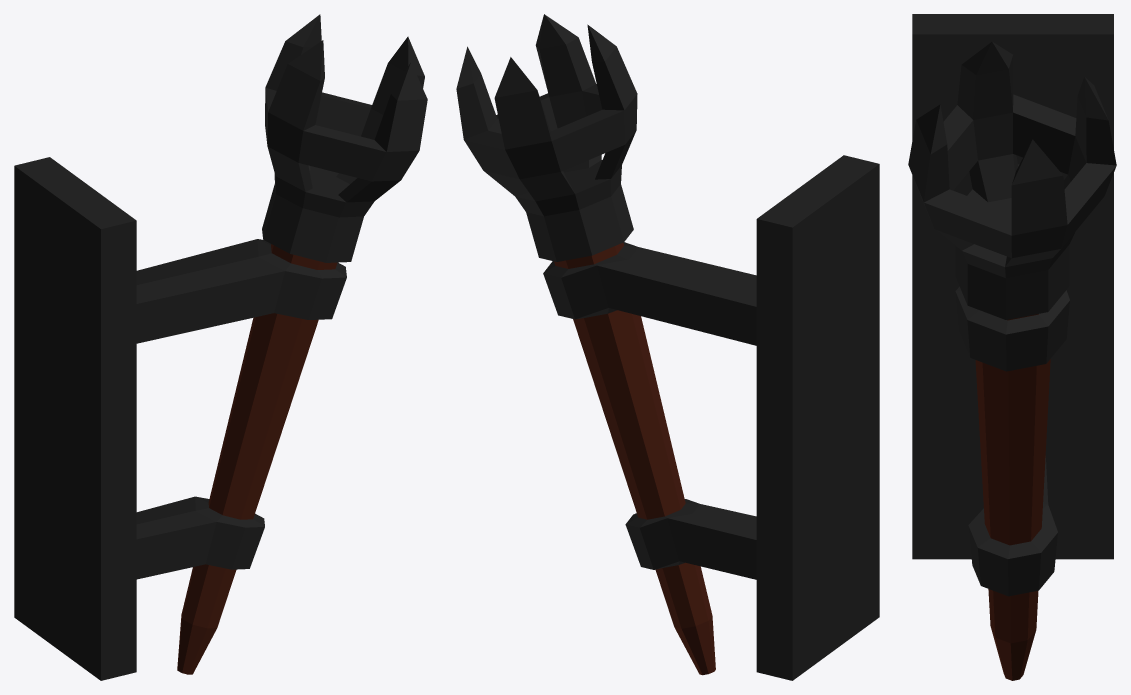
Rendered from torch_test.FBX.
3 views of the same model, side by side, from view 1: azimuth 30°, elevation 25°; view 2: azimuth 150°, elevation 25°; view 3: azimuth 270°, elevation 25° (orthographic). The views are drawn at different scales.
Visible parts, largest first — view 1: Torch; view 2: Torch; view 3: Torch.
Part boxes in pixels (x1=…): Torch: x1=14, y1=14, x2=427, y2=680; Torch: x1=456, y1=14, x2=879, y2=680; Torch: x1=908, y1=14, x2=1116, y2=680.
Bounding box in the file's own units: 5.5 × 8.72 × 2.33.
